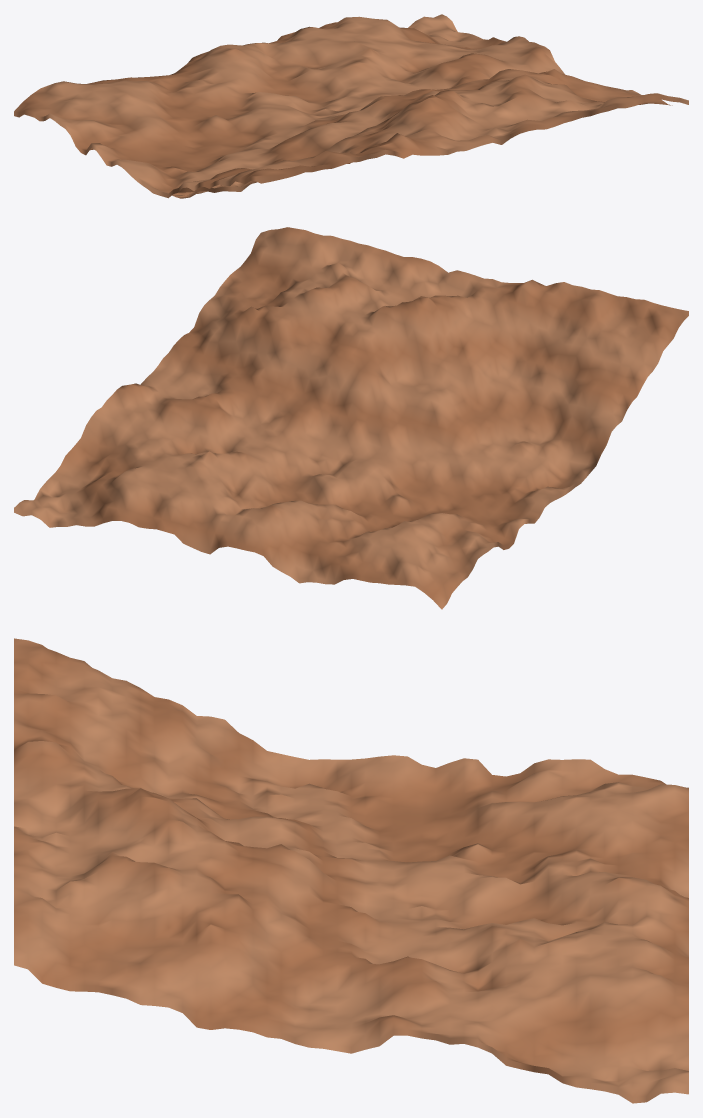
File: terrain-051.glb
3 views of the same model, one above another, from view 1: azimuth 30°, elevation 25°; view 2: azimuth 150°, elevation 25°; view 3: azimuth 270°, elevation 25° (orthographic). The views are drawn at different scales.
Parts seen in each view (by area): view 1: terrain-051; view 2: terrain-051; view 3: terrain-051.
Part boxes in pixels (x1,y1,x2,y2): terrain-051: (14,14,688,198); terrain-051: (14,227,688,609); terrain-051: (14,638,688,1103).
Bounding box in the file's own units: 384 × 113 × 384.
